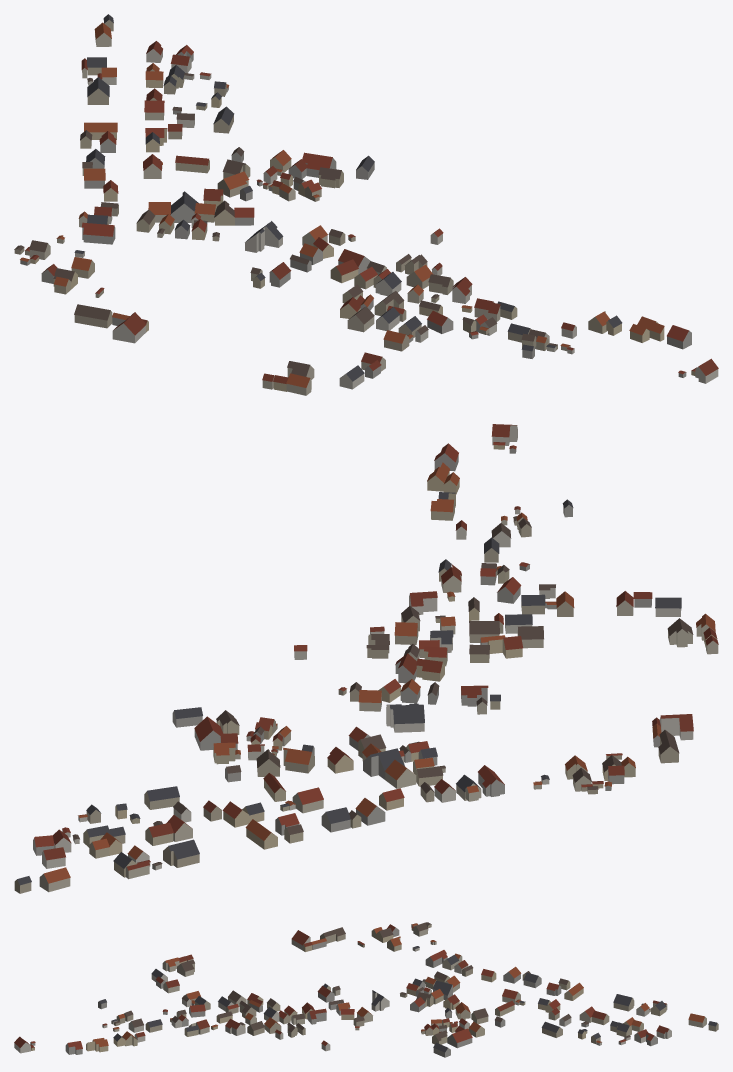
3 renders of one model, top to bottom at view 1: azimuth 30°, elevation 25°; view 2: azimuth 150°, elevation 25°; view 3: azimuth 270°, elevation 25°, orthographic. The views are drawn at different scales.
Parts seen in each view (by area): view 1: buildings; view 2: buildings; view 3: buildings.
Boxes of the visible parts, x1=… form: buildings: x1=14, y1=14, x2=718, y2=395; buildings: x1=14, y1=424, x2=718, y2=893; buildings: x1=14, y1=922, x2=718, y2=1057.
Bounding box in the file's own units: 319 × 30.91 × 699.
